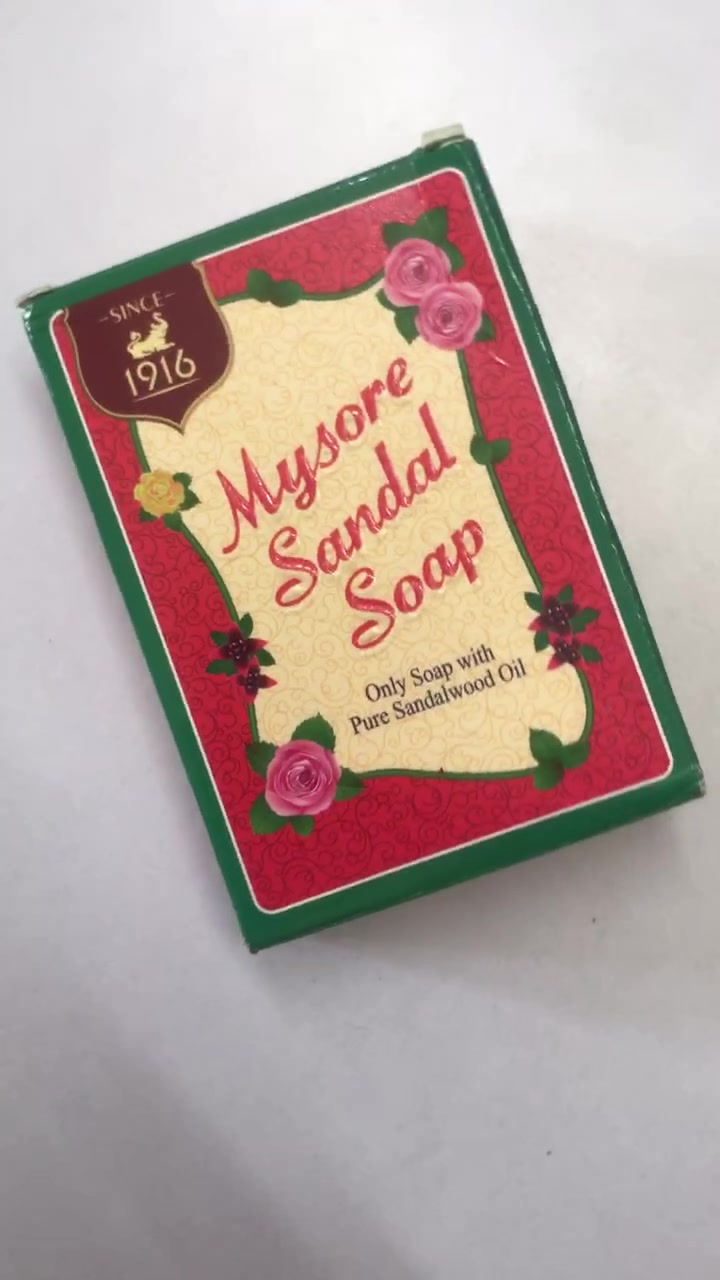mysore sandal soap: (26, 148, 701, 955)
